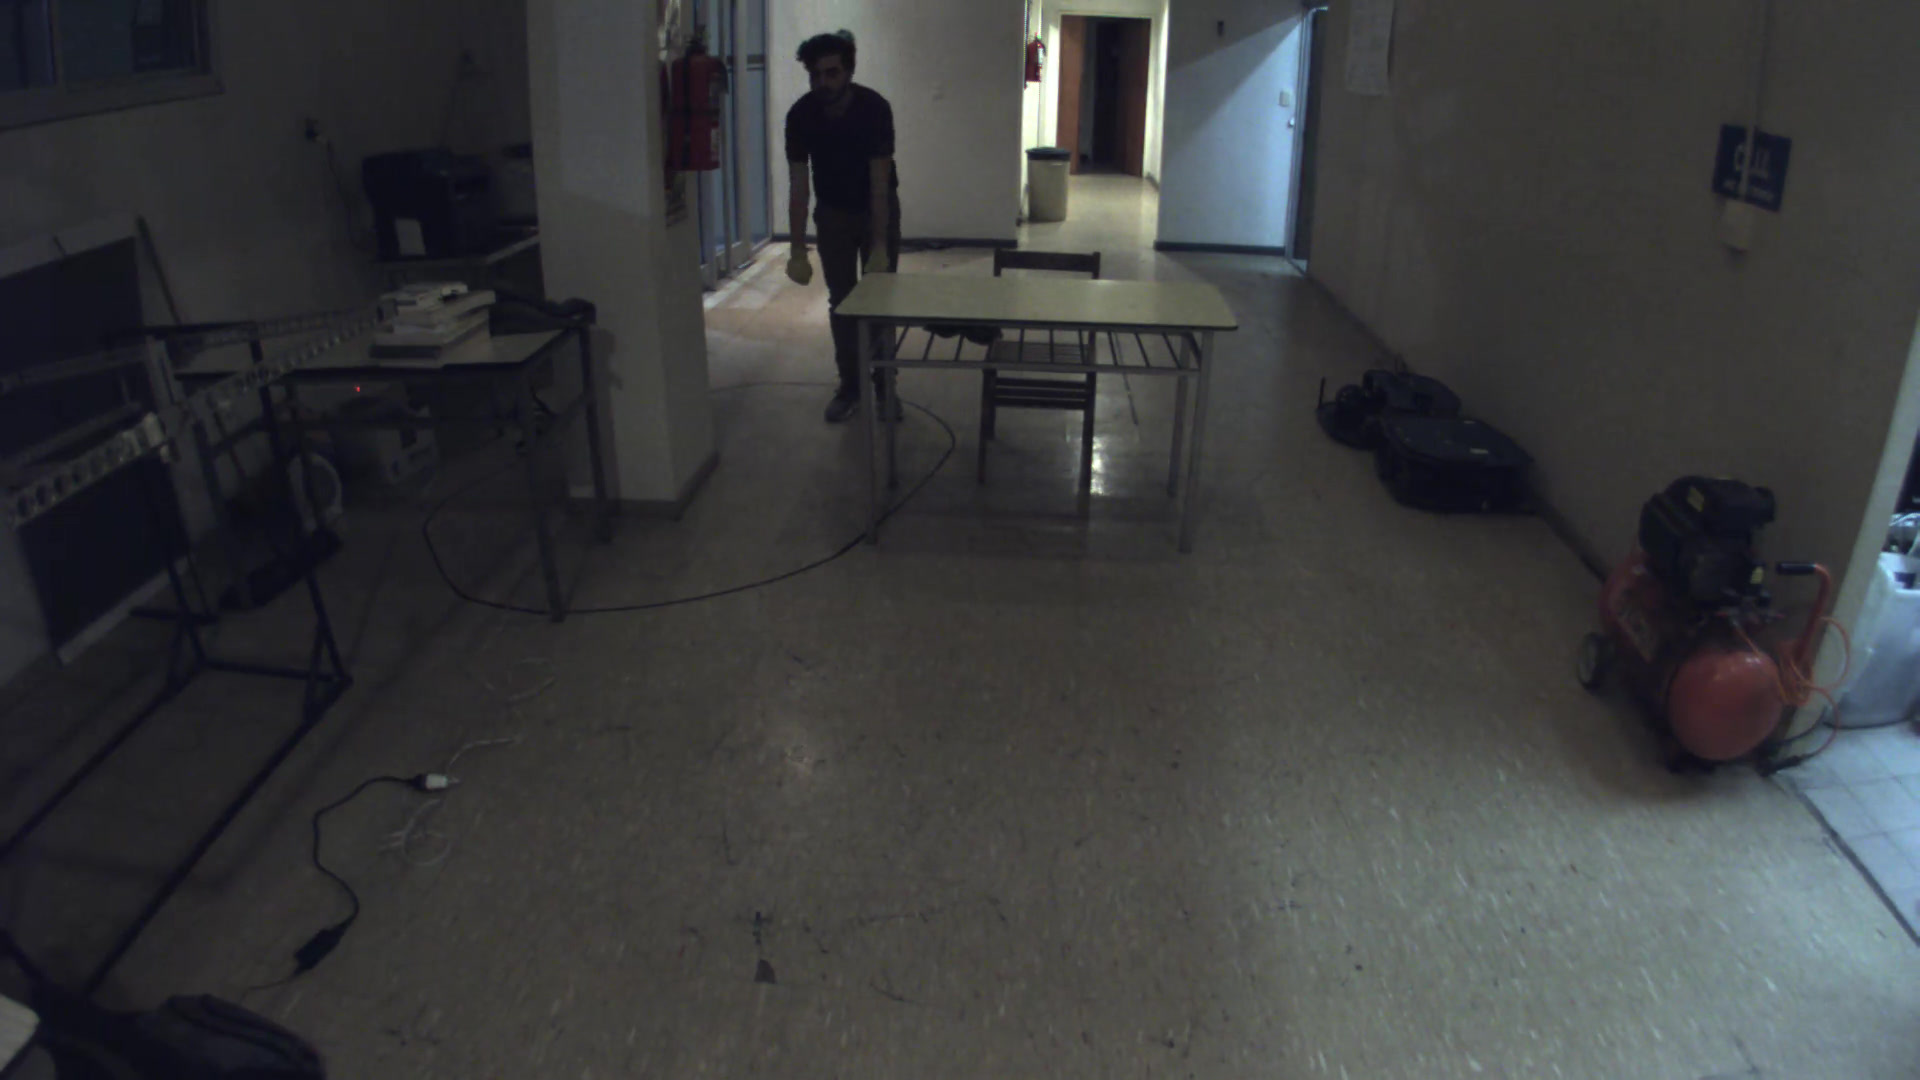hand: (773, 247, 819, 299), (858, 243, 895, 280)
